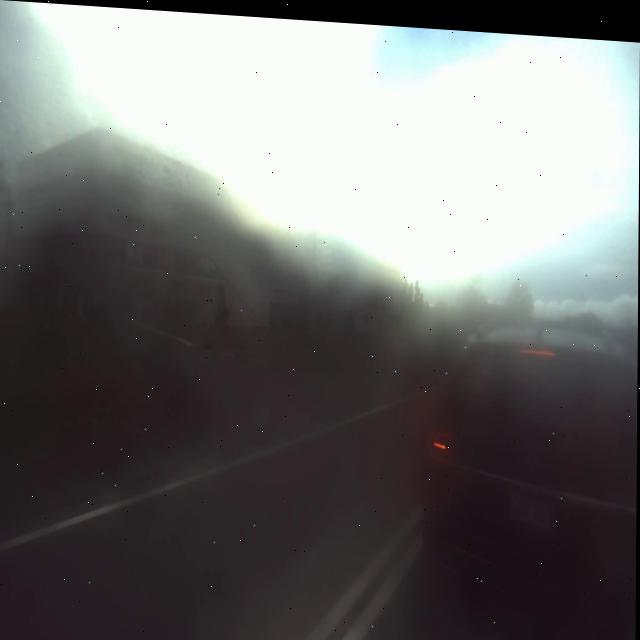car: (419, 303, 634, 592)
